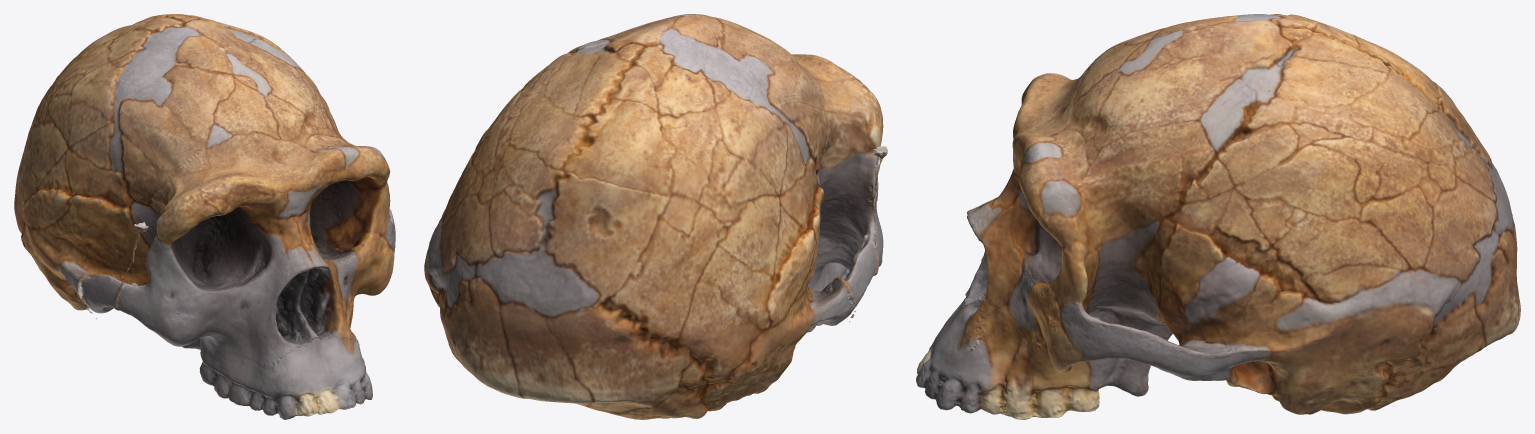
Rendered from homo-erectus-trinil.glb.
The picture shows the model from 3 angles, left to right: view 1: azimuth 30°, elevation 25°; view 2: azimuth 150°, elevation 25°; view 3: azimuth 270°, elevation 25°; orthographic projection. The views are drawn at different scales.
Parts seen in each view (by area): view 1: Object_5, Object_4, Object_6, Object_3, Object_2; view 2: Object_2, Object_3, Object_4, Object_5, Object_6; view 3: Object_5, Object_2, Object_3, Object_4, Object_6.
Part boxes in pixels (x1,y1,x2,y2): Object_5: (66, 14, 395, 378); Object_4: (32, 14, 395, 419); Object_6: (57, 15, 395, 416); Object_3: (15, 60, 388, 419); Object_2: (14, 14, 393, 310); Object_2: (424, 14, 798, 419); Object_3: (424, 88, 878, 361); Object_4: (444, 18, 883, 324); Object_5: (510, 14, 880, 238); Object_6: (479, 14, 887, 322); Object_5: (965, 14, 1420, 361); Object_2: (1072, 14, 1520, 414); Object_3: (916, 70, 1510, 419); Object_4: (955, 14, 1470, 419); Object_6: (916, 15, 1420, 409).
Bounding box in the file's own units: 4.38 × 4.19 × 6.36.
Materials: 1 (1 with a texture image).
